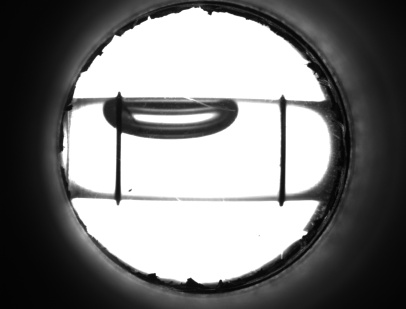line: (274, 115, 293, 187), (110, 144, 126, 183)
